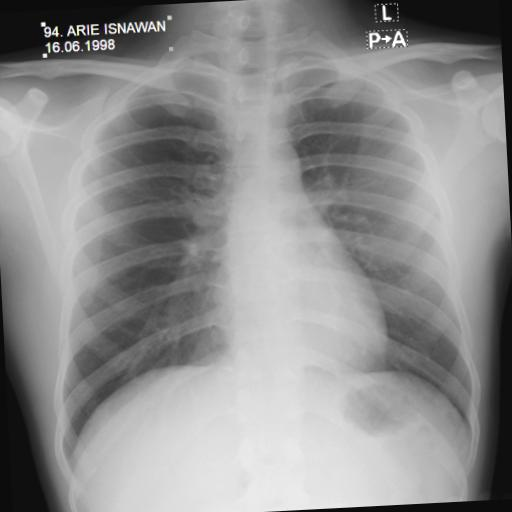normal: (29, 23, 488, 477)
